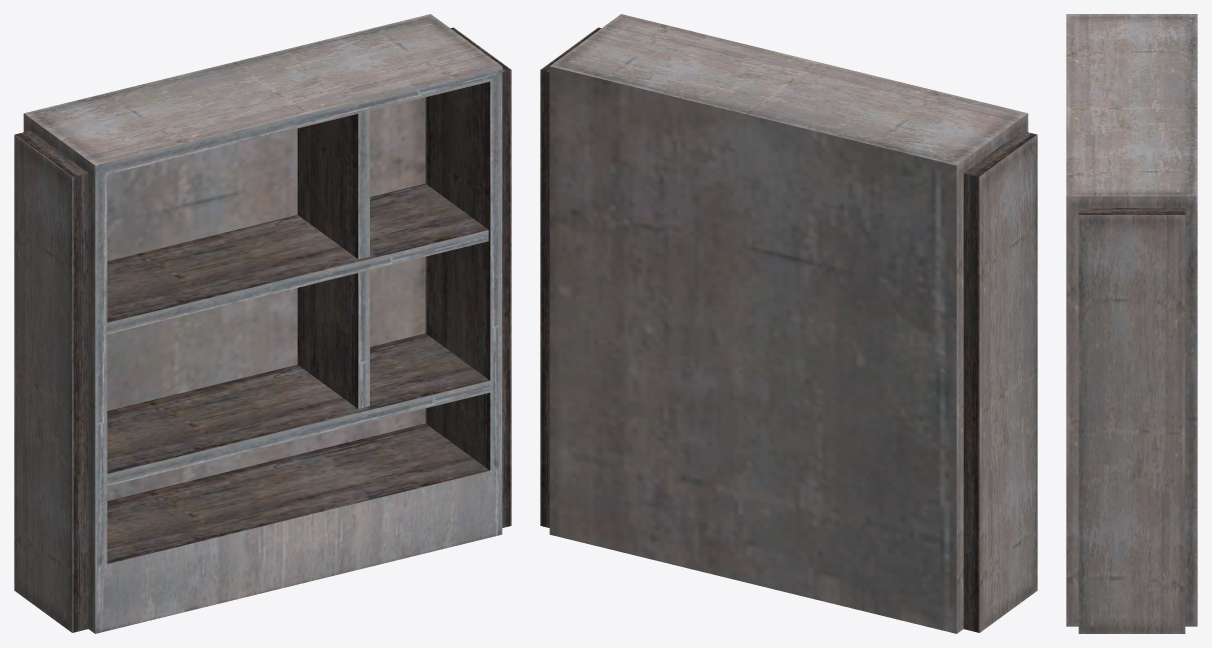
File: frn_all_chep_bookcase_s01_l2.fbx
3 renders of one model, left to right at view 1: azimuth 30°, elevation 25°; view 2: azimuth 150°, elevation 25°; view 3: azimuth 270°, elevation 25°, orthographic. The views are drawn at different scales.
Visible parts, largest first — view 1: mesh_node; view 2: mesh_node; view 3: mesh_node.
Part boxes in pixels (x1,y1,x2,y2): mesh_node: (14,14,511,633); mesh_node: (540,14,1037,633); mesh_node: (1066,14,1197,633).
Size of the model in its own units: 1.77 by 1.8 by 0.4979.
Materials: 1 (1 with a texture image).
